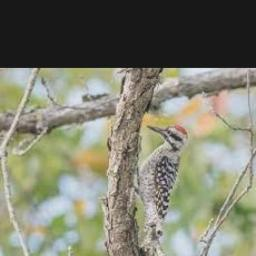Woodpecker: (135, 124, 188, 256)
